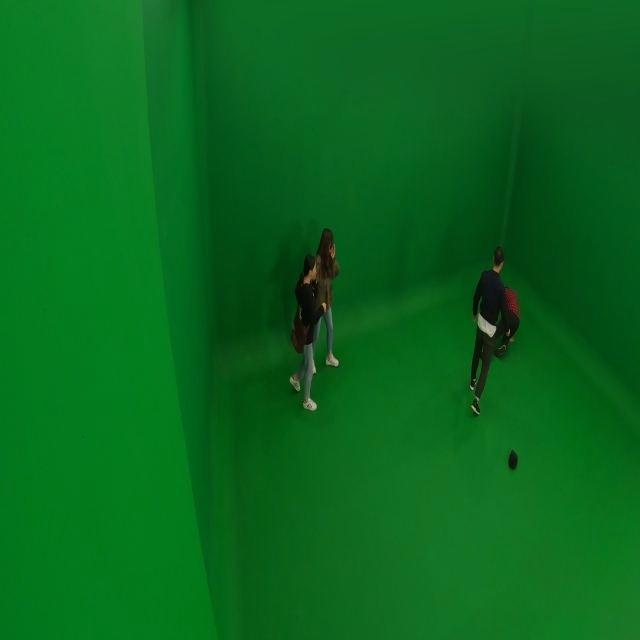fight: (468, 247, 520, 415)
non-fight: (290, 255, 328, 410), (310, 228, 340, 374)
